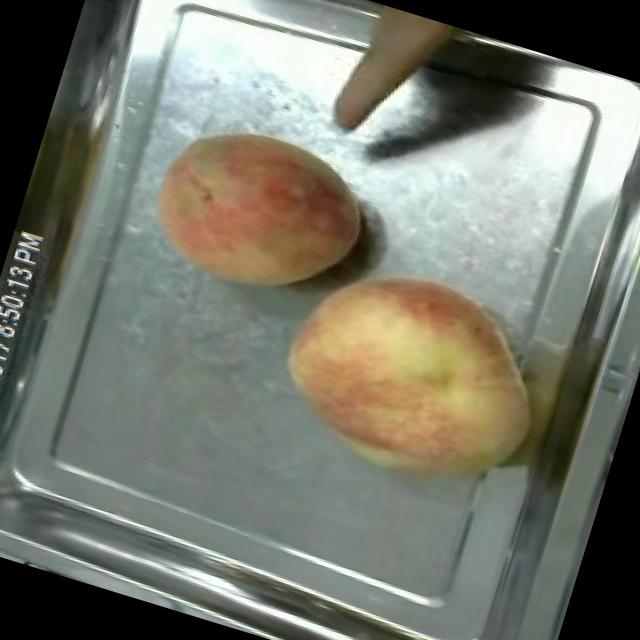Fruit: (248, 228, 570, 519), (123, 97, 389, 326)
